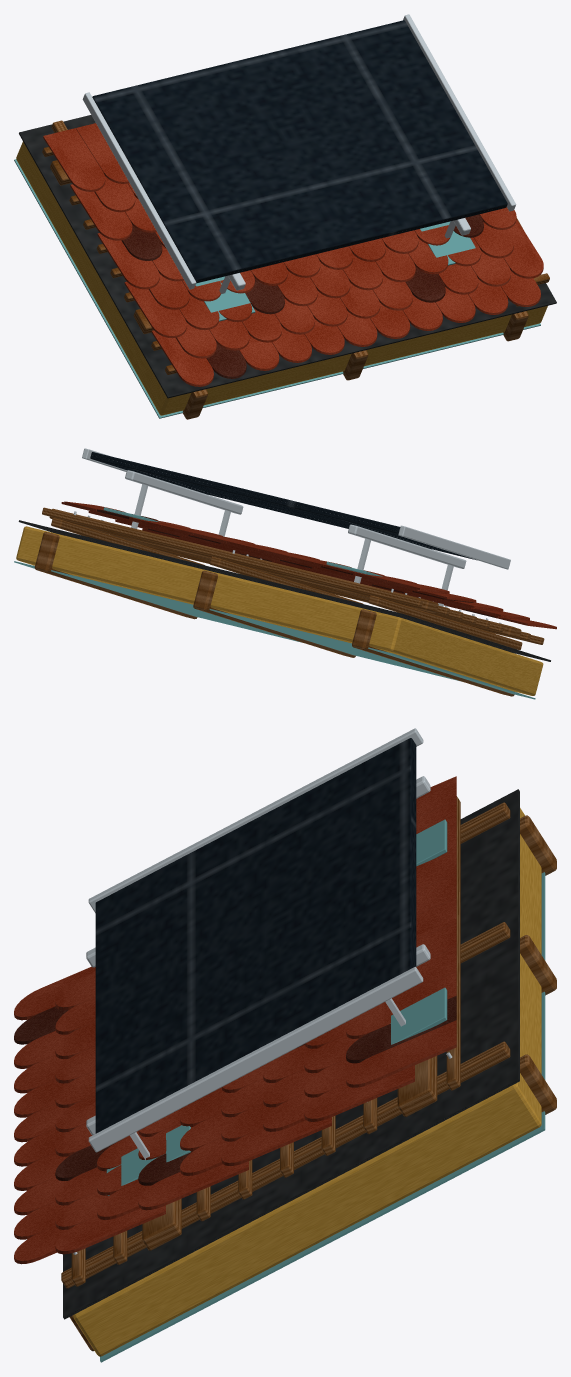
The model's file is modell.glb.
3 views of the same model, one above another, from view 1: azimuth 30°, elevation 25°; view 2: azimuth 150°, elevation 25°; view 3: azimuth 270°, elevation 25° (orthographic). The views are drawn at different scales.
Visible parts, largest first — view 1: a01-modul_, a01-deckziegel_deckung, a01-daemmung_daemmung, a01-zusatzebene_zusatzebene, a01-deckziegel_deckung.001, a01-modul_.001, a01-luftdichtheit_luftdichtheit, a01-wetteranschluss_deckung, a01-sparren_tragwerk, a01-lattung_lattung, a01-befestigungsuntergrund_lattung; view 2: a01-daemmung_daemmung, a01-lattung_lattung, a01-deckziegel_deckung, a01-modul_, a01-sparren_tragwerk, a01-luftdichtheit_luftdichtheit, a01-zusatzebene_zusatzebene, a01-befestigungsuntergrund_lattung, a01-schiene_, a01-modul_.001, a01-halter_, a01-deckziegel_deckung.001 (+1 smaller); view 3: a01-modul_, a01-deckziegel_deckung, a01-daemmung_daemmung, a01-zusatzebene_zusatzebene, a01-lattung_lattung, a01-modul_.001, a01-deckziegel_deckung.001, a01-wetteranschluss_deckung, a01-luftdichtheit_luftdichtheit, a01-sparren_tragwerk, a01-befestigungsuntergrund_lattung, a01-schiene_.
Boxes of the visible parts, left/top/right/bottom form: a01-modul_: left=92, top=20, right=507, bottom=283; a01-deckziegel_deckung: left=43, top=123, right=543, bottom=386; a01-daemmung_daemmung: left=16, top=141, right=547, bottom=415; a01-zusatzebene_zusatzebene: left=19, top=115, right=556, bottom=398; a01-deckziegel_deckung.001: left=121, top=214, right=483, bottom=378; a01-modul_.001: left=82, top=14, right=516, bottom=289; a01-luftdichtheit_luftdichtheit: left=14, top=159, right=540, bottom=418; a01-wetteranschluss_deckung: left=195, top=221, right=475, bottom=321; a01-sparren_tragwerk: left=183, top=311, right=528, bottom=419; a01-lattung_lattung: left=42, top=120, right=549, bottom=374; a01-befestigungsuntergrund_lattung: left=50, top=160, right=523, bottom=334; a01-daemmung_daemmung: left=16, top=526, right=543, bottom=695; a01-lattung_lattung: left=42, top=507, right=544, bottom=649; a01-deckziegel_deckung: left=61, top=501, right=556, bottom=629; a01-modul_: left=90, top=452, right=476, bottom=560; a01-sparren_tragwerk: left=34, top=532, right=514, bottom=696; a01-luftdichtheit_luftdichtheit: left=14, top=561, right=535, bottom=699; a01-zusatzebene_zusatzebene: left=18, top=520, right=550, bottom=661; a01-befestigungsuntergrund_lattung: left=49, top=508, right=521, bottom=638; a01-schiene_: left=125, top=470, right=466, bottom=568; a01-modul_.001: left=82, top=448, right=510, bottom=569; a01-halter_: left=131, top=484, right=453, bottom=606; a01-deckziegel_deckung.001: left=97, top=509, right=495, bottom=617; a01-modul_: left=95, top=738, right=416, bottom=1133; a01-deckziegel_deckung: left=14, top=776, right=456, bottom=1264; a01-daemmung_daemmung: left=73, top=808, right=541, bottom=1356; a01-zusatzebene_zusatzebene: left=63, top=789, right=519, bottom=1319; a01-lattung_lattung: left=61, top=796, right=510, bottom=1288; a01-modul_.001: left=88, top=728, right=423, bottom=1152; a01-deckziegel_deckung.001: left=14, top=996, right=456, bottom=1185; a01-wetteranschluss_deckung: left=106, top=819, right=447, bottom=1195; a01-luftdichtheit_luftdichtheit: left=100, top=872, right=545, bottom=1362; a01-sparren_tragwerk: left=69, top=815, right=556, bottom=1351; a01-befestigungsuntergrund_lattung: left=142, top=1056, right=437, bottom=1250; a01-schiene_: left=86, top=776, right=430, bottom=1135.
Bounding box in the file's own units: 2.14 × 1.3 × 1.69.
Materials: 8 (6 with a texture image).
